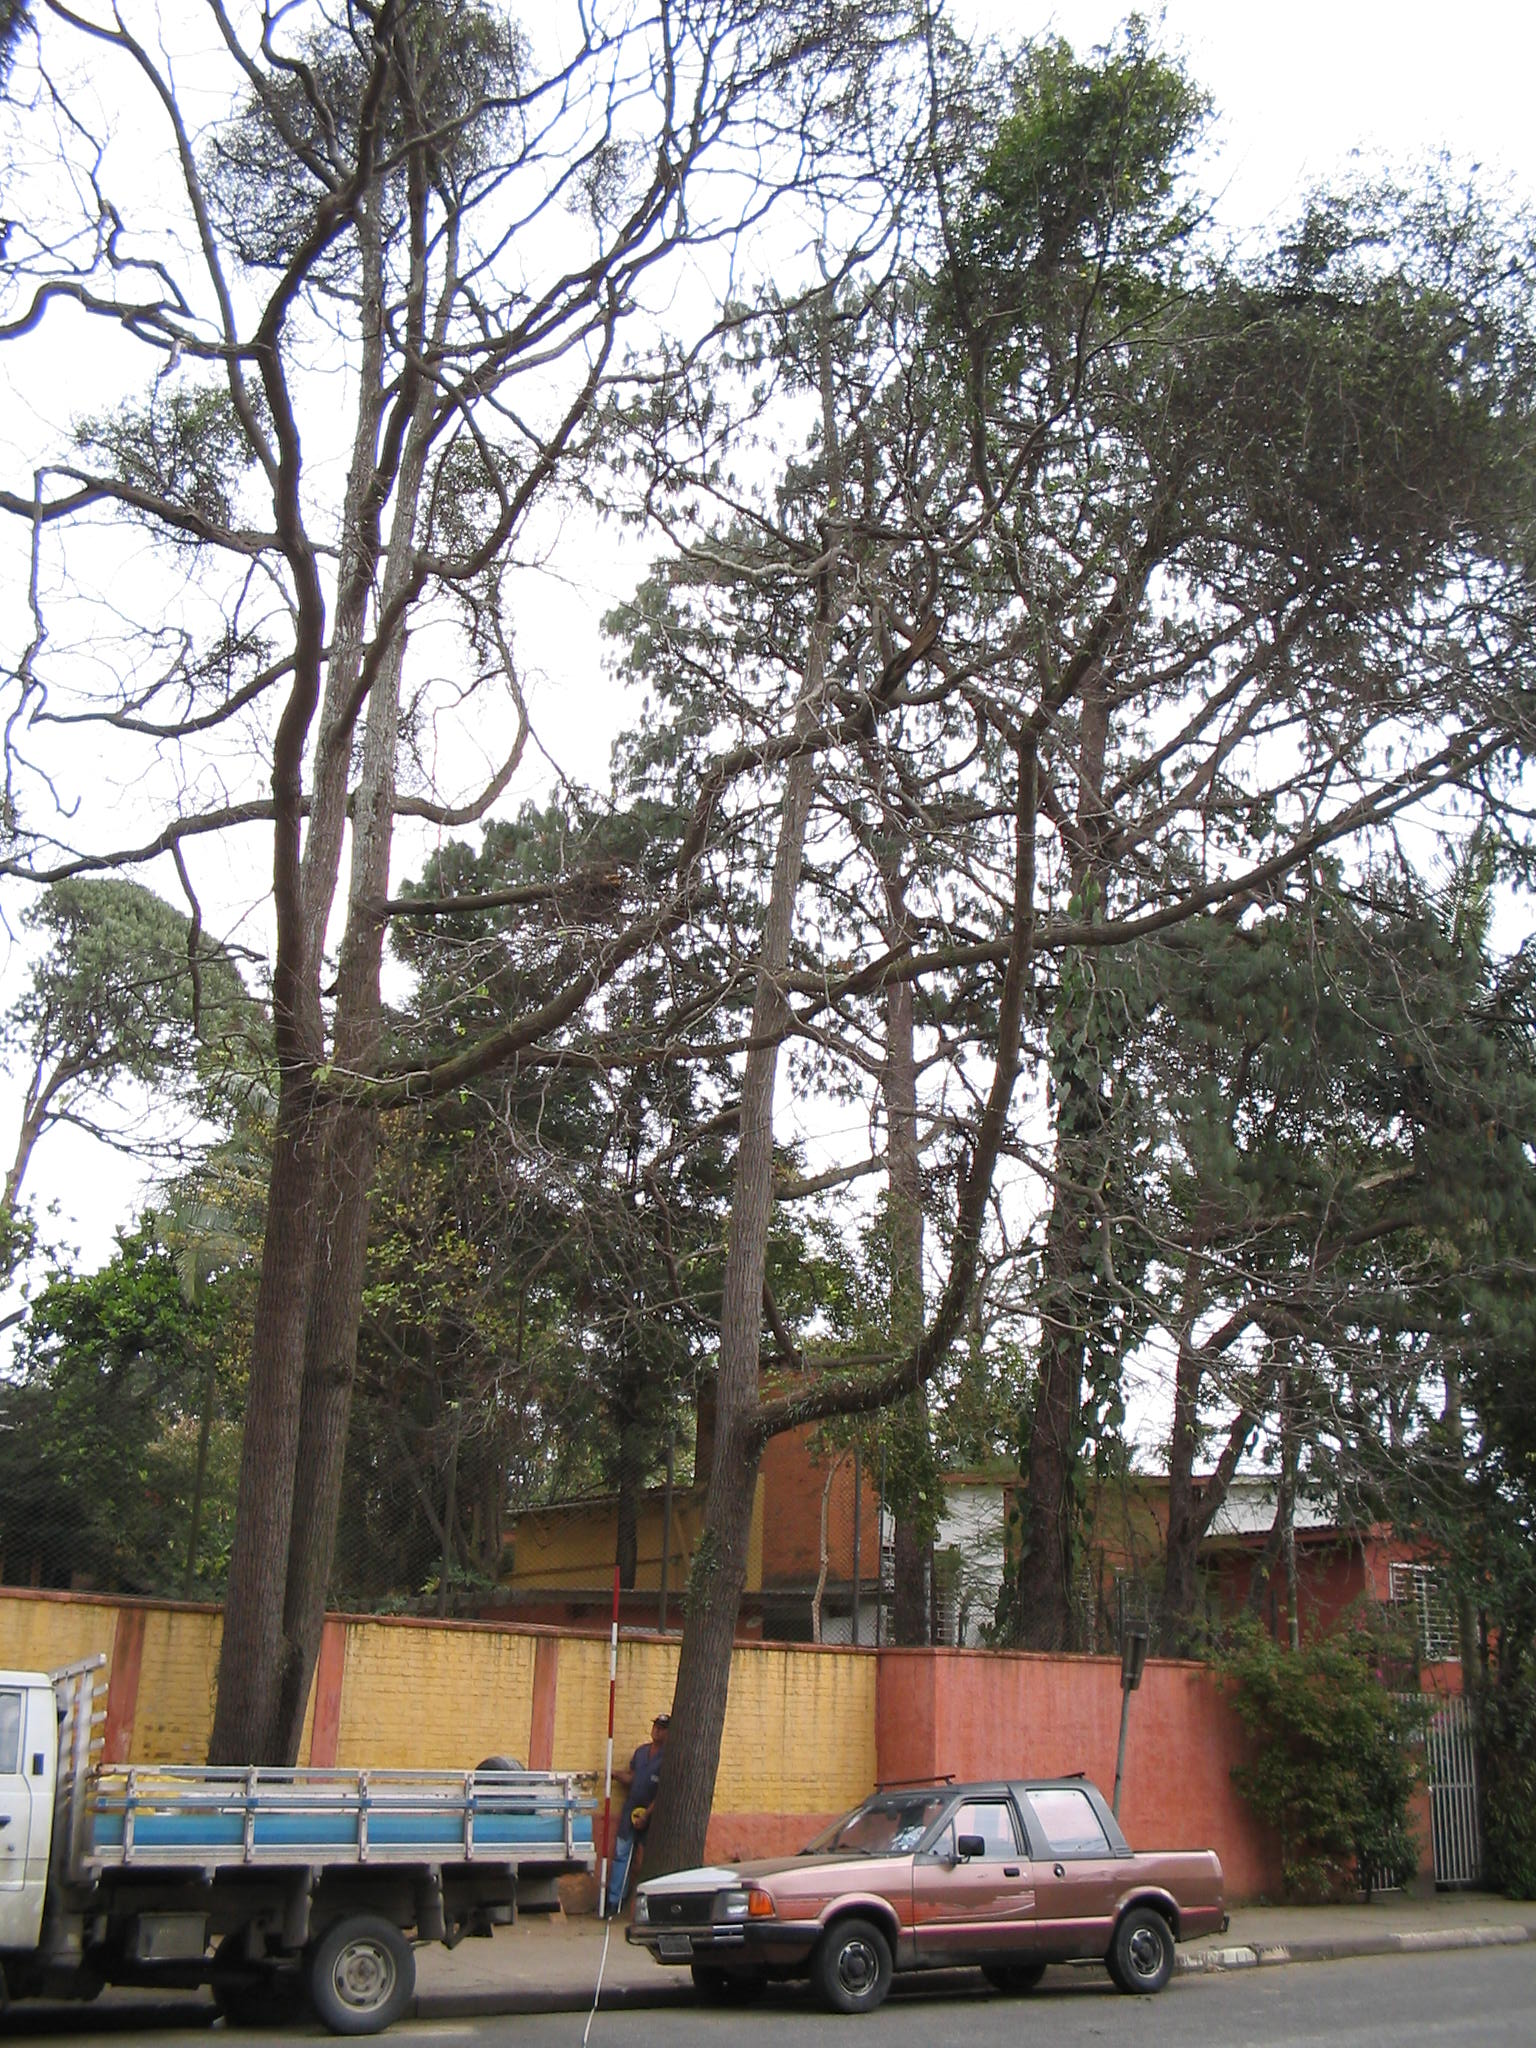stick: (576, 1567, 649, 1919)
